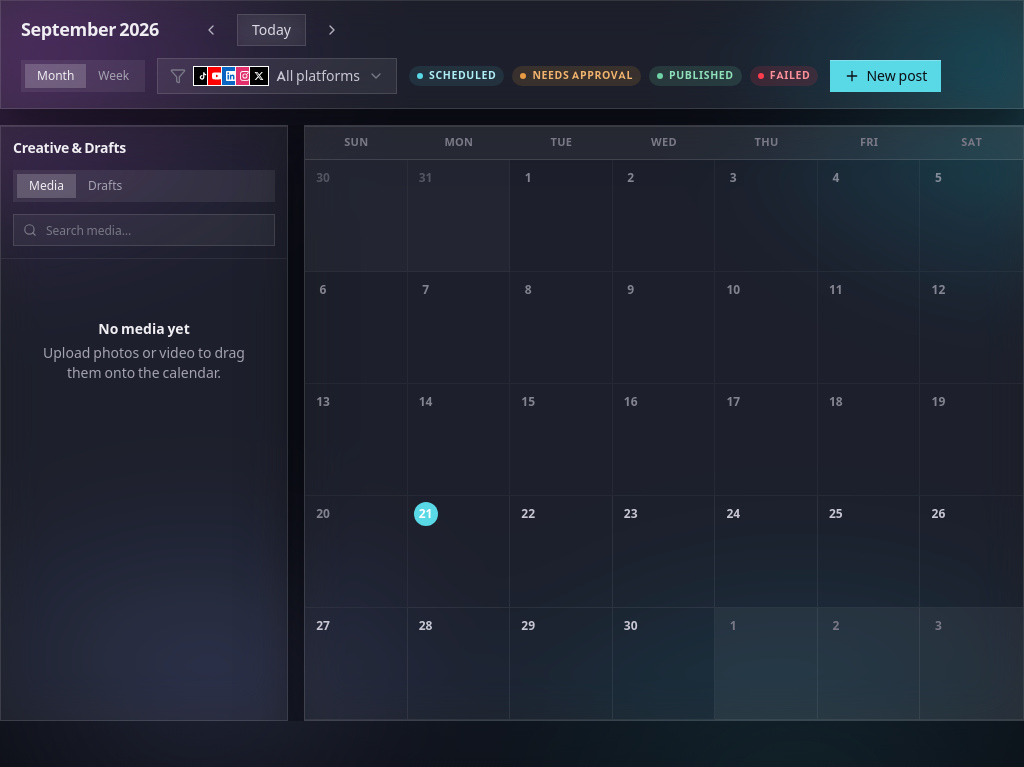
Test: CalendarPage › switches to week view and shows hour labels
Step 1. Click the tab "Week" → (114, 76), box [86, 64, 141, 88]
(page scrolled)
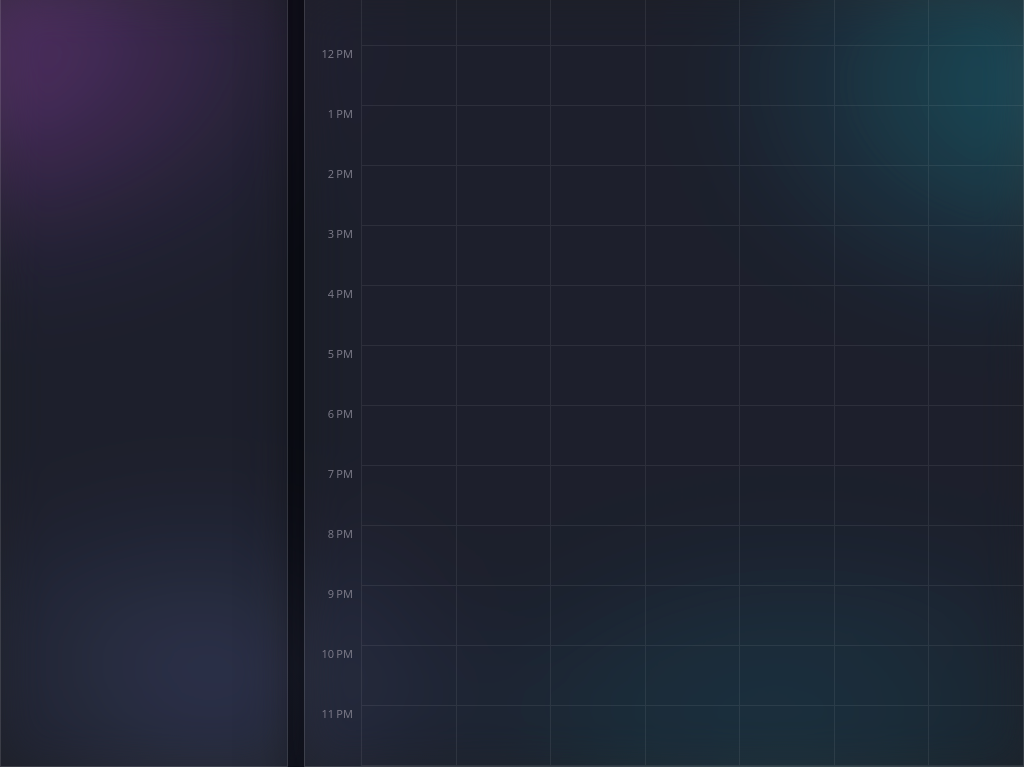
Expected: the text "11 PM" is shown, [322, 706, 353, 720]
